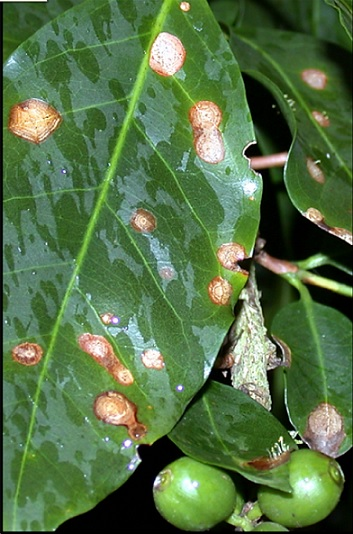ojo de gallo: (13, 53, 242, 200), (115, 181, 246, 428)
